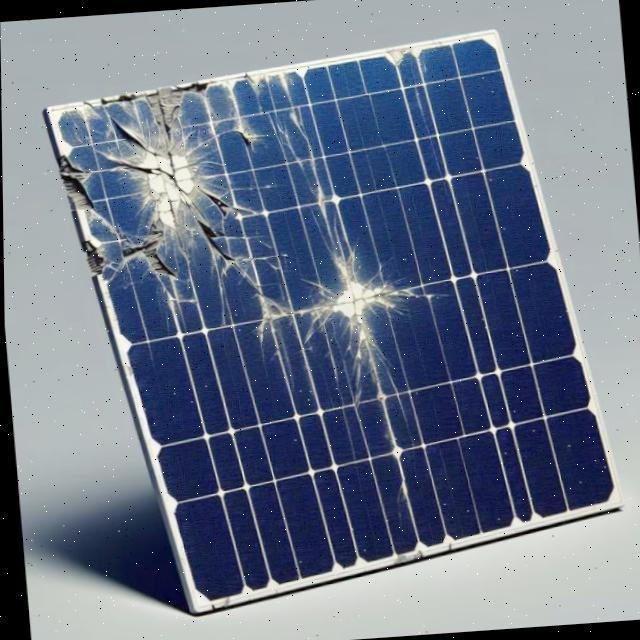Anomaly Solar Panel: (50, 0, 627, 617)
Structural Damage: (261, 212, 462, 414), (121, 129, 231, 246), (95, 78, 220, 154), (288, 105, 346, 249), (115, 213, 201, 300), (405, 58, 455, 195), (322, 331, 359, 462), (56, 134, 107, 221), (187, 199, 241, 270), (192, 177, 258, 231), (277, 122, 320, 195), (384, 365, 420, 447), (107, 110, 164, 161), (240, 285, 290, 335), (230, 258, 273, 304), (81, 220, 114, 279)
